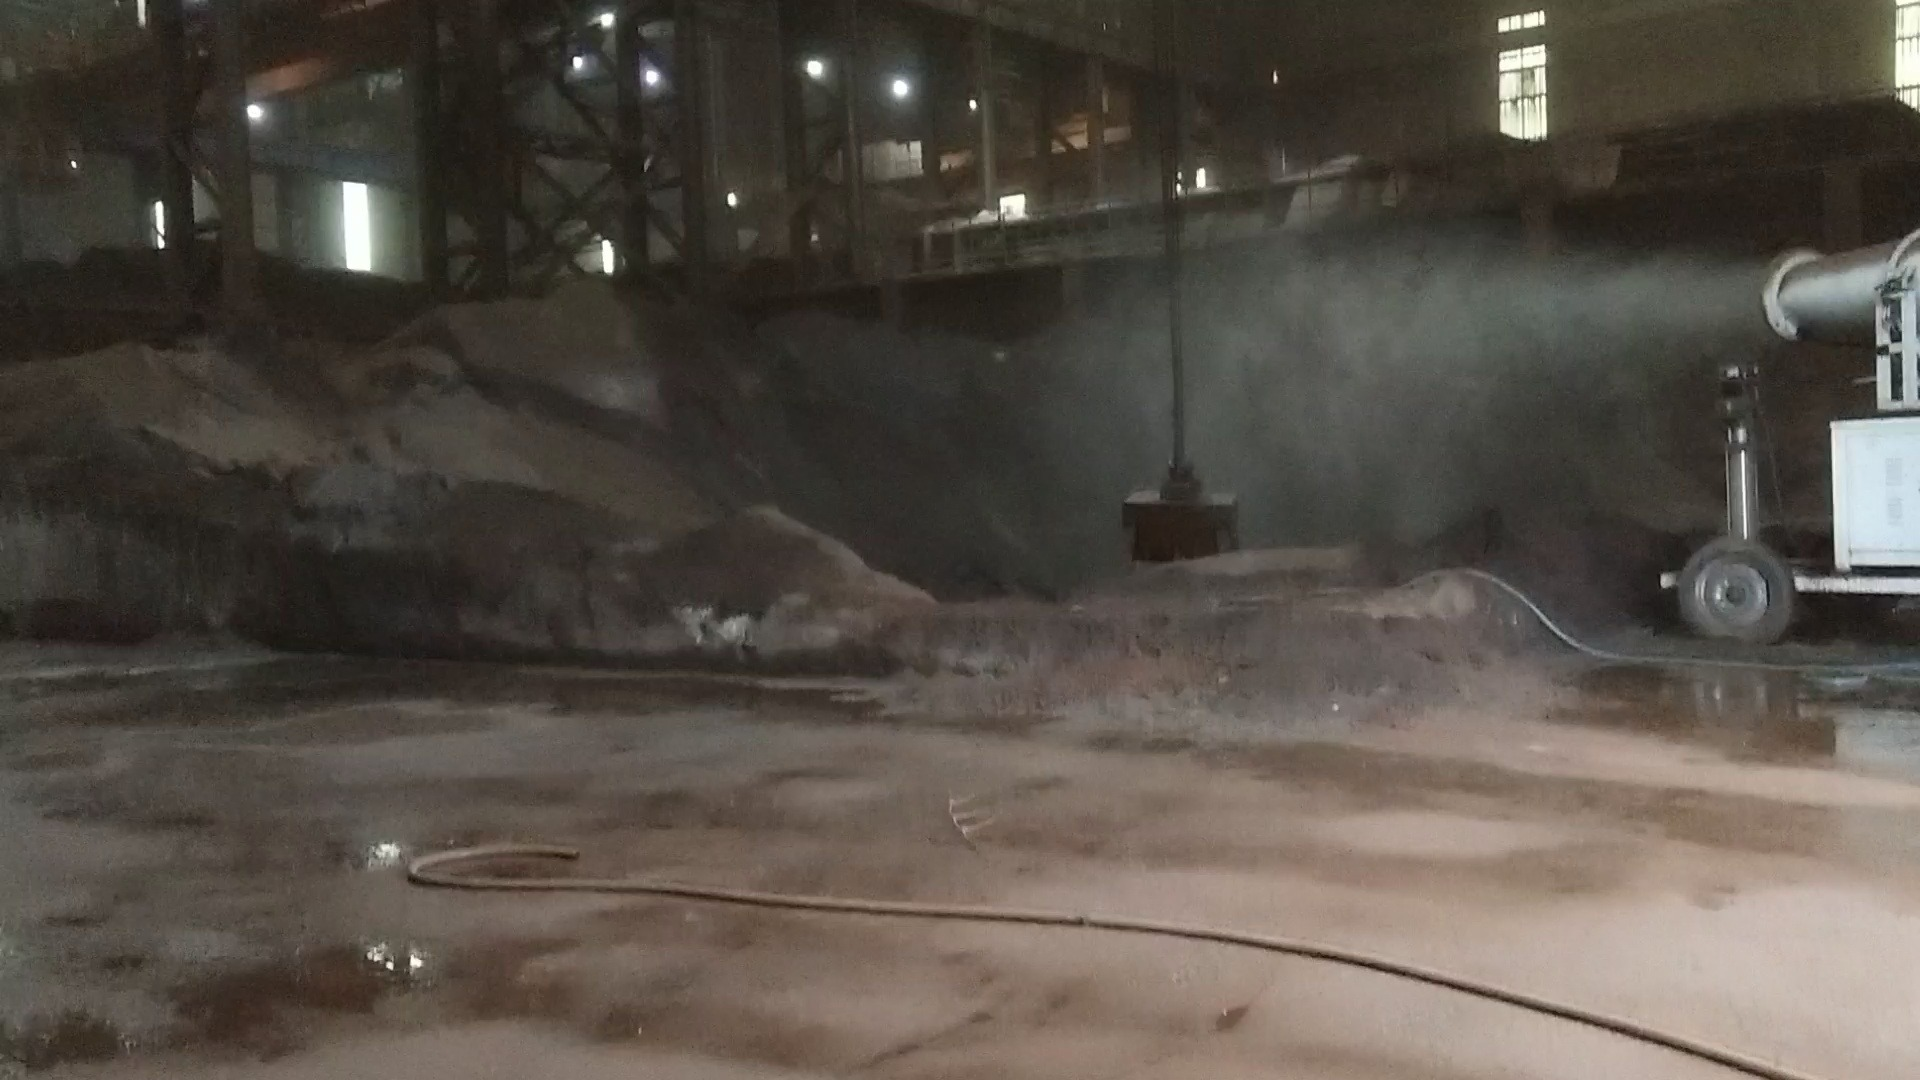dust: (1118, 218, 1758, 407)
grab: (1112, 436, 1247, 582)
